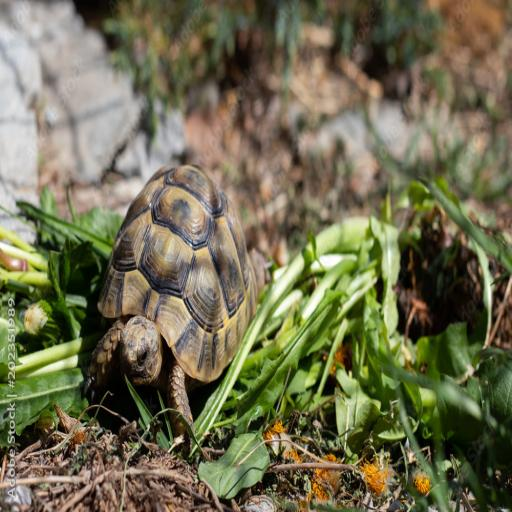turtle: (78, 153, 260, 447)
